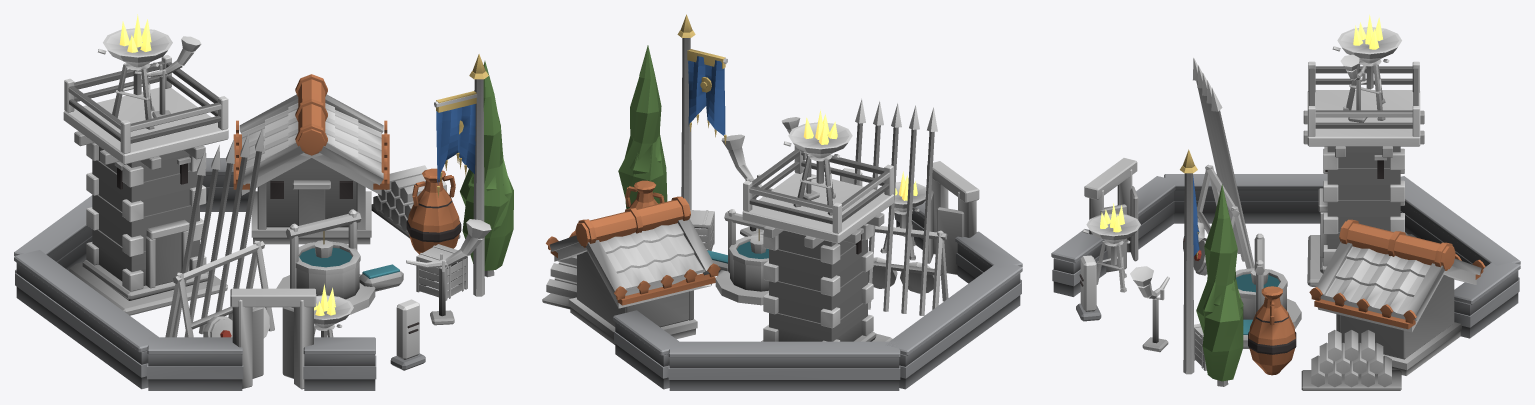
The model's file is sentry-camp-l2.glb.
3 views of the same model, side by side, from view 1: azimuth 30°, elevation 25°; view 2: azimuth 150°, elevation 25°; view 3: azimuth 270°, elevation 25° (orthographic). The views are drawn at different scales.
Parts seen in each view (by area): view 1: sentry-camp-l2; view 2: sentry-camp-l2; view 3: sentry-camp-l2.
Boxes of the visible parts, box(x1,y1,x2,y2) form: sentry-camp-l2: box(14, 14, 513, 390); sentry-camp-l2: box(542, 14, 1022, 390); sentry-camp-l2: box(1051, 14, 1520, 390).
Size of the model in its own units: 1.4 by 0.8882 by 1.52.
